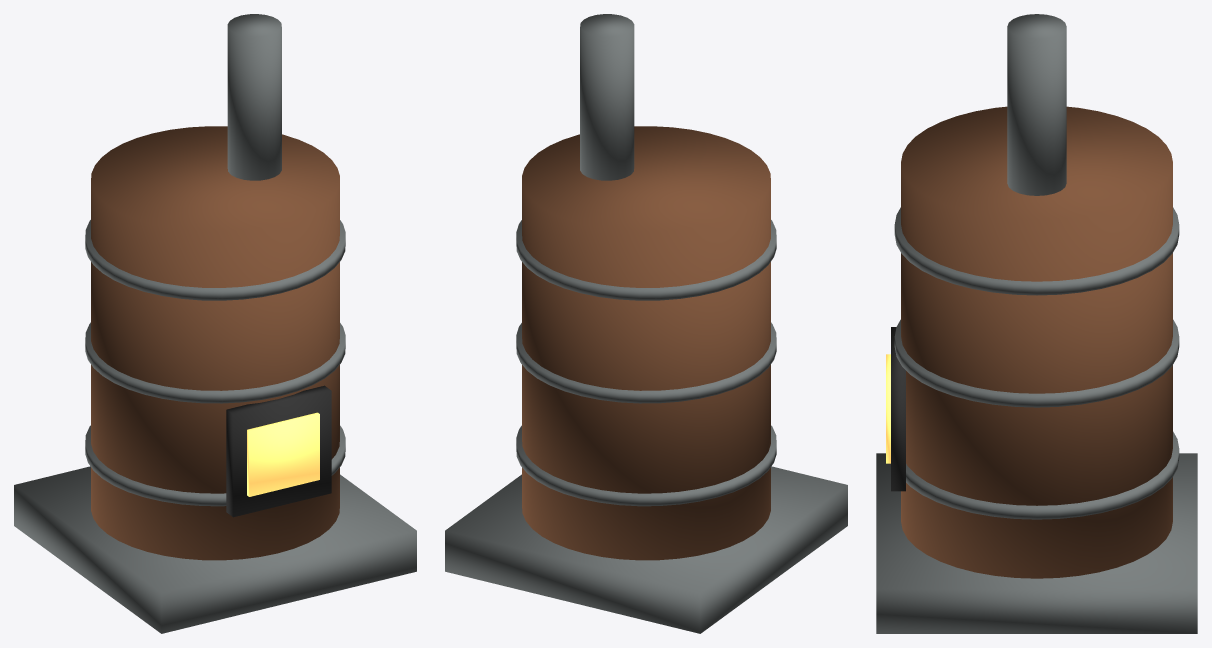
The model's file is furnace.glb.
The picture shows the model from 3 angles, left to right: view 1: azimuth 30°, elevation 25°; view 2: azimuth 150°, elevation 25°; view 3: azimuth 270°, elevation 25°; orthographic projection. The views are drawn at different scales.
Visible parts, largest first — view 1: drum, base, pipe, door, fire, band.001, band.002, band; view 2: drum, base, pipe, band.001, band, band.002; view 3: drum, base, pipe, band.001, band.002, band, door, fire.
Boxes of the visible parts, x1,y1,x2,y2 form: drum: (91, 126, 339, 560); base: (14, 466, 416, 633); pipe: (227, 14, 281, 180); door: (226, 385, 331, 517); fire: (247, 412, 319, 496); band.001: (85, 322, 345, 403); band.002: (85, 220, 345, 300); band: (85, 425, 345, 506); drum: (522, 126, 770, 560); base: (445, 466, 847, 633); pipe: (580, 14, 634, 180); band.001: (516, 322, 776, 403); band: (516, 425, 776, 506); band.002: (516, 220, 776, 300); drum: (901, 106, 1172, 578); base: (876, 453, 1197, 633); pipe: (1007, 14, 1066, 195); band.001: (894, 319, 1179, 407); band.002: (894, 207, 1179, 295); band: (906, 431, 1179, 519); door: (891, 327, 905, 491); fire: (886, 354, 890, 463).
Size of what is drawn, in the model's own units: 1.3 by 2.5 by 1.3.
